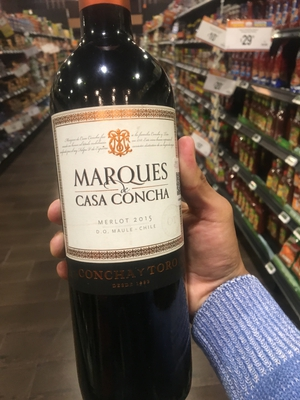marques de casa concha merlot: (41, 14, 188, 369)
